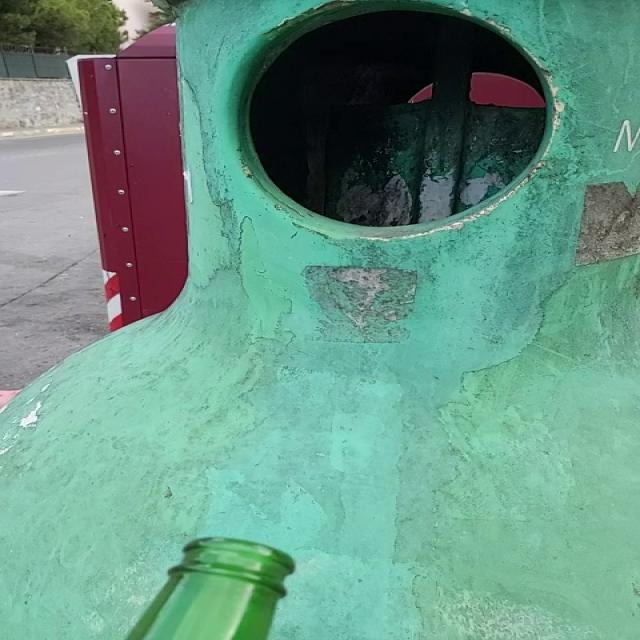glass: (127, 539, 293, 640)
